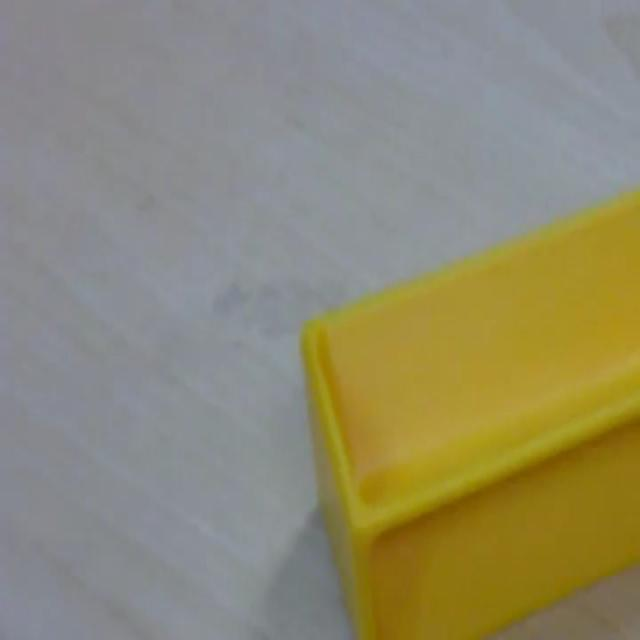yellow_block: (298, 185, 638, 636)
